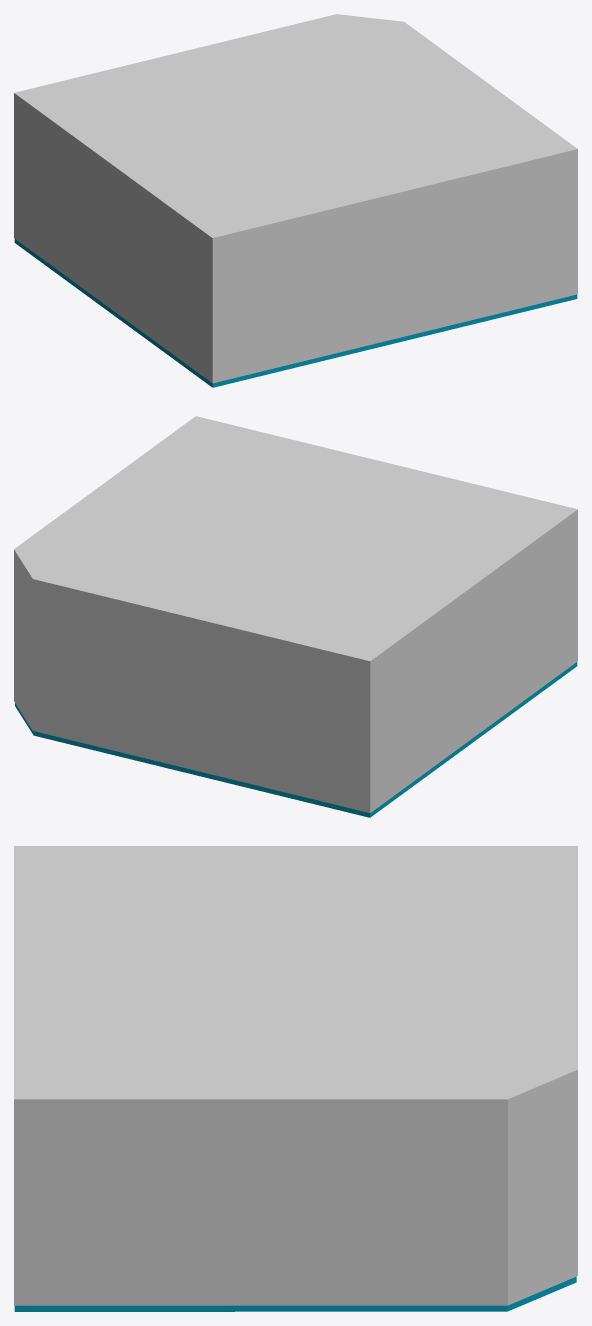
The model's file is Room.fbx.
The picture shows the model from 3 angles, top to bottom: view 1: azimuth 30°, elevation 25°; view 2: azimuth 150°, elevation 25°; view 3: azimuth 270°, elevation 25°; orthographic projection. The views are drawn at different scales.
Parts seen in each view (by area): view 1: Room; view 2: Room; view 3: Room.
Boxes of the visible parts, left/top/right/bottom form: Room: left=14, top=14, right=577, bottom=387; Room: left=14, top=416, right=577, bottom=817; Room: left=14, top=846, right=577, bottom=1311.
Size of the model in its own units: 1275 by 500 by 1200.
